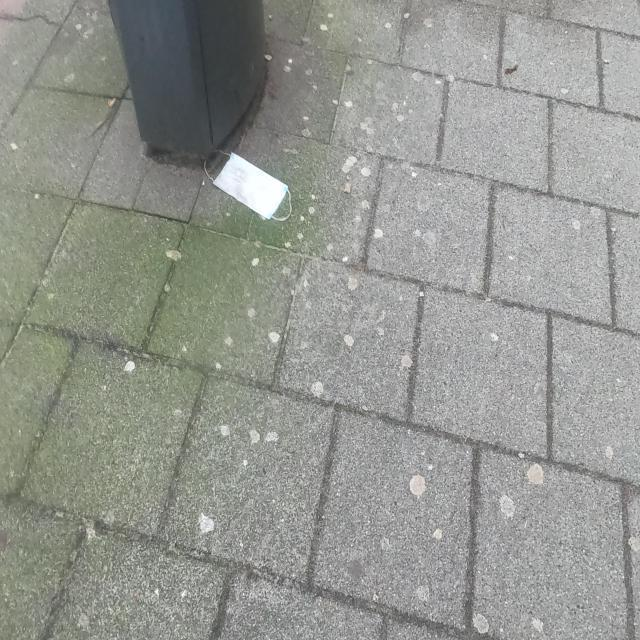Mask: (204, 148, 292, 224)
